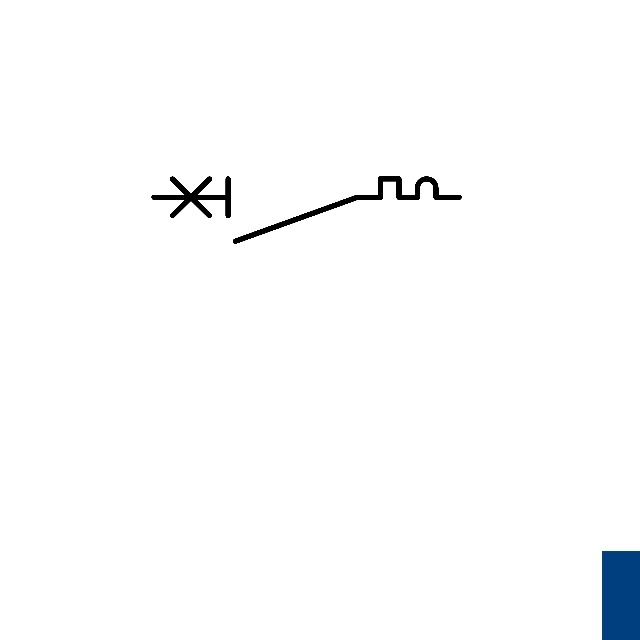interruptor_termomagnetico: (146, 171, 467, 249)
